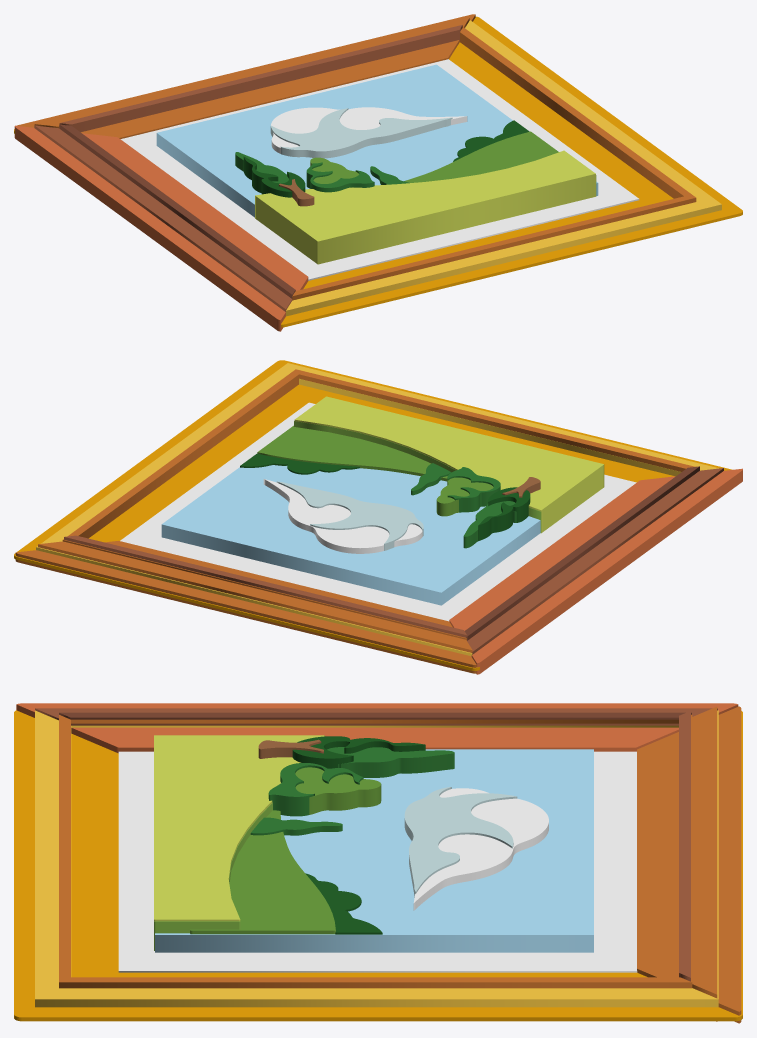
Rendered from emoji_u1f5bc.glb.
3 renders of one model, top to bottom at view 1: azimuth 30°, elevation 25°; view 2: azimuth 150°, elevation 25°; view 3: azimuth 270°, elevation 25°, orthographic. The views are drawn at different scales.
Visible parts, largest first — view 1: emoji_u1f5bc; view 2: emoji_u1f5bc; view 3: emoji_u1f5bc.
Part boxes in pixels (<box>): emoji_u1f5bc: <box>14,14,742,331</box>; emoji_u1f5bc: <box>14,360,742,674</box>; emoji_u1f5bc: <box>14,703,742,1023</box>.
Bounding box in the file's own units: 0.0339 × 0.0046 × 0.0339.
